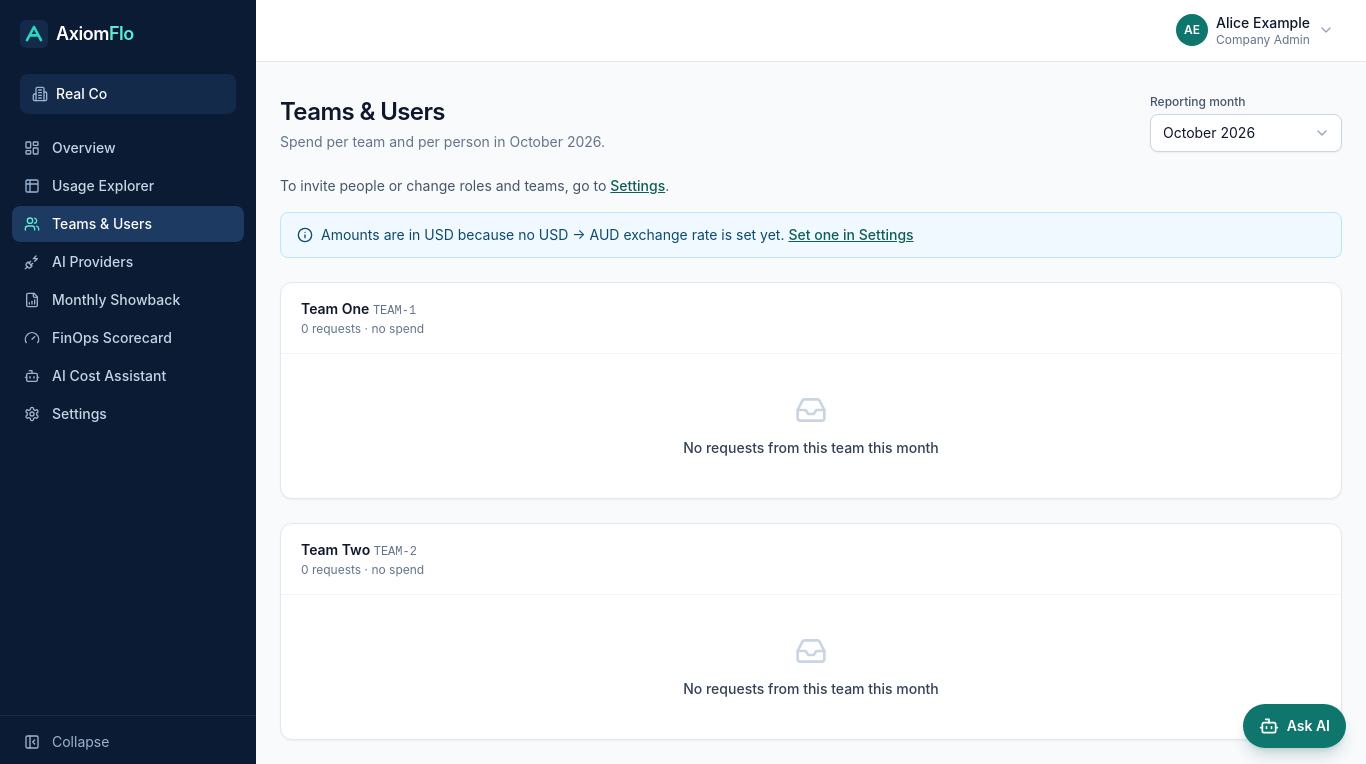
real AI Cost Assistant › opens from any page as a side panel, without leaving it
This screenshot has width=1366, height=764.
Click the button "Ask AI": (1294, 726) [1243, 704, 1346, 748]
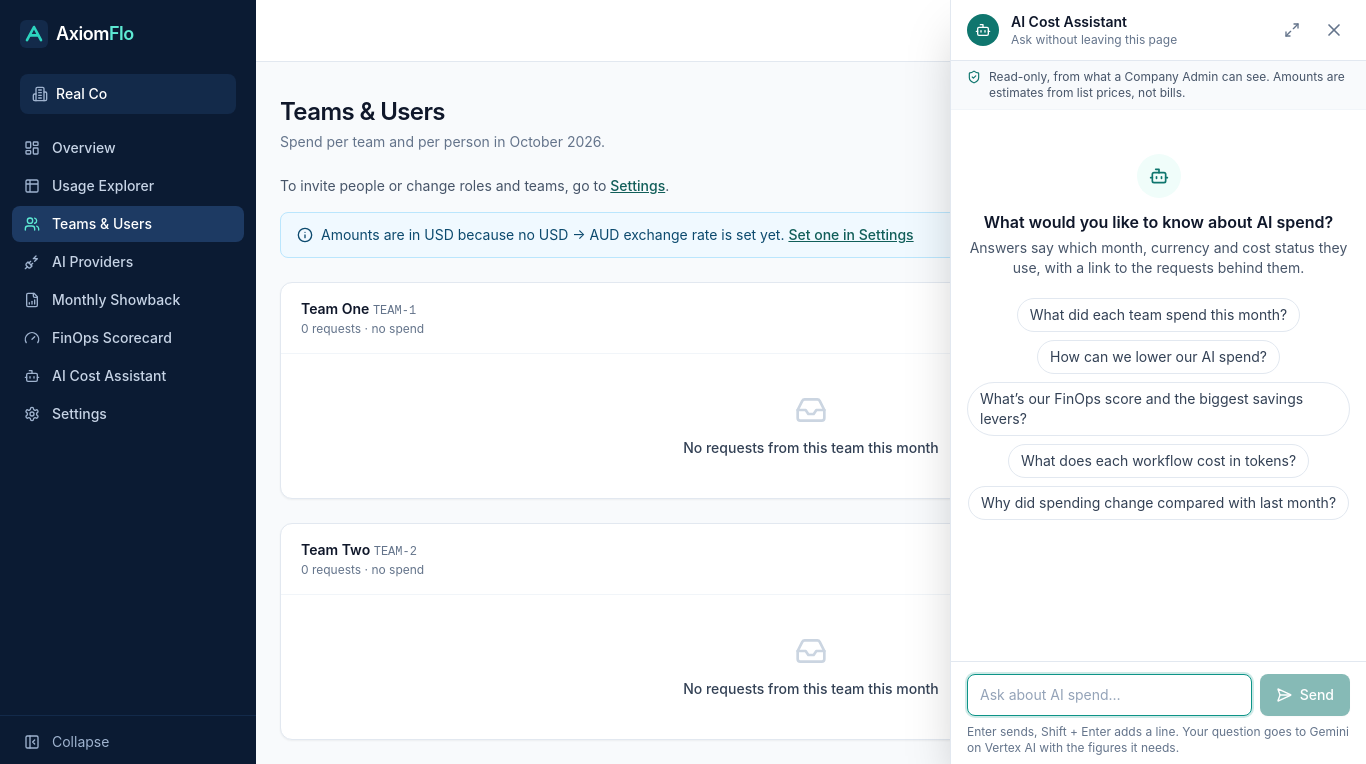
In the text box named "Ask a question about AI costs": (1109, 695) [967, 674, 1252, 716], type "What did each team spend?"
Then press Enter
(page scrolled)
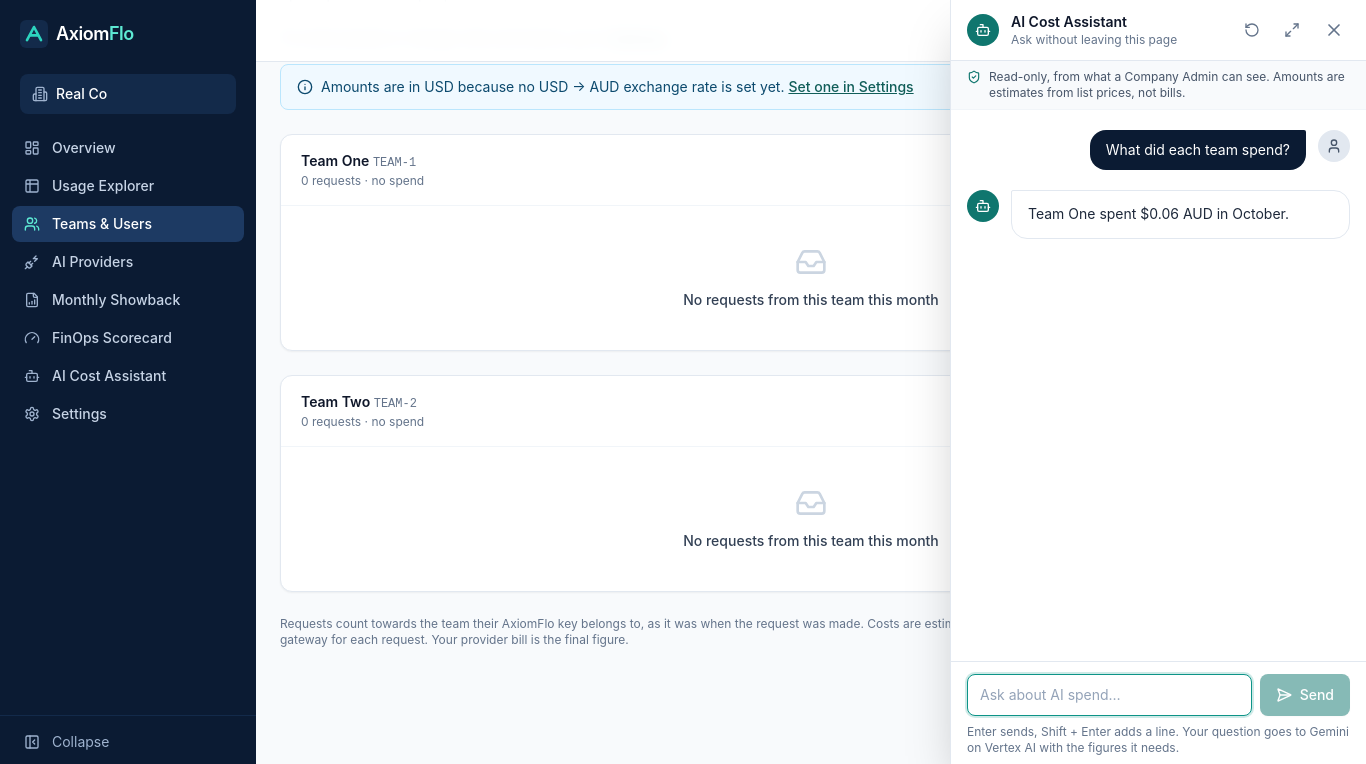
Expected: the text "Team One spent $0.06 AUD in October." is shown, [1028, 203, 1333, 226]
